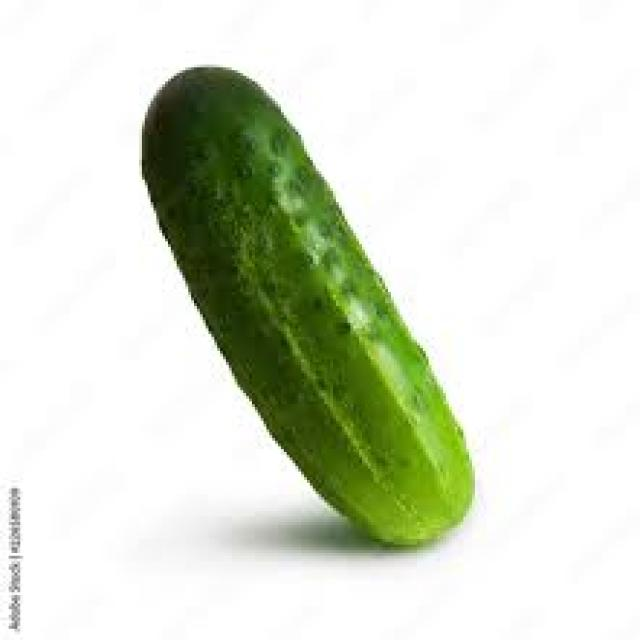cucumber: (139, 62, 475, 547)
